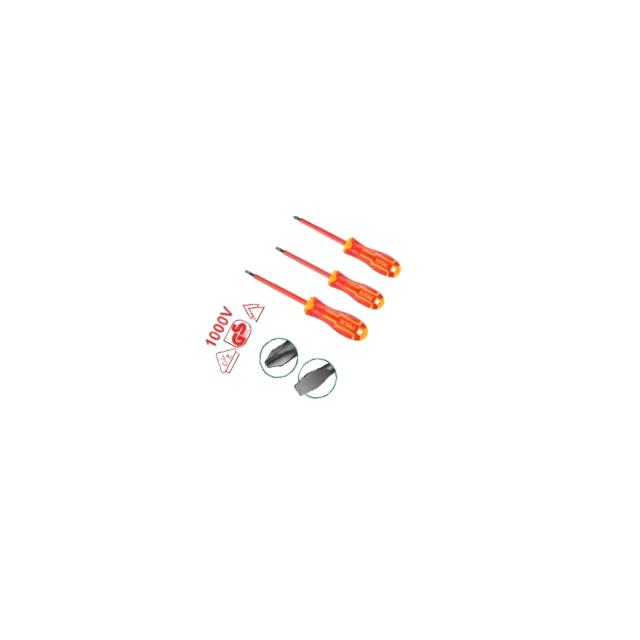screwdriver: (238, 256, 374, 346), (270, 235, 390, 315), (287, 205, 406, 283)
